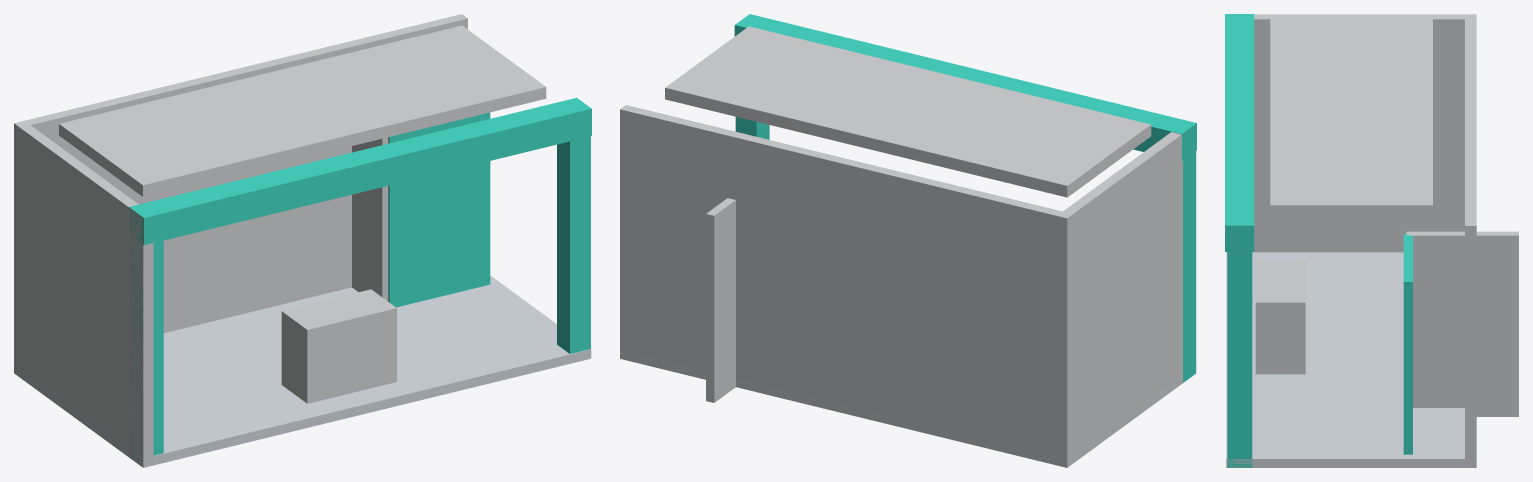
3 renders of one model, left to right at view 1: azimuth 30°, elevation 25°; view 2: azimuth 150°, elevation 25°; view 3: azimuth 270°, elevation 25°, orthographic. The views are drawn at different scales.
Visible parts, largest first — view 1: Exhibition Booth Concept; view 2: Exhibition Booth Concept; view 3: Exhibition Booth Concept.
Part boxes in pixels (box(x1,y1,x2,y2)): Exhibition Booth Concept: box(14, 14, 591, 467); Exhibition Booth Concept: box(620, 14, 1196, 467); Exhibition Booth Concept: box(1225, 14, 1518, 467).
Bounding box in the file's own units: 6 × 3.34 × 3.52.
